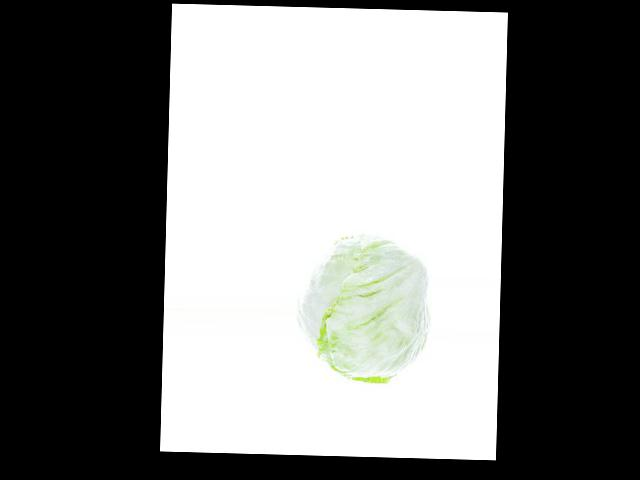lettuce: (320, 268, 424, 374)
